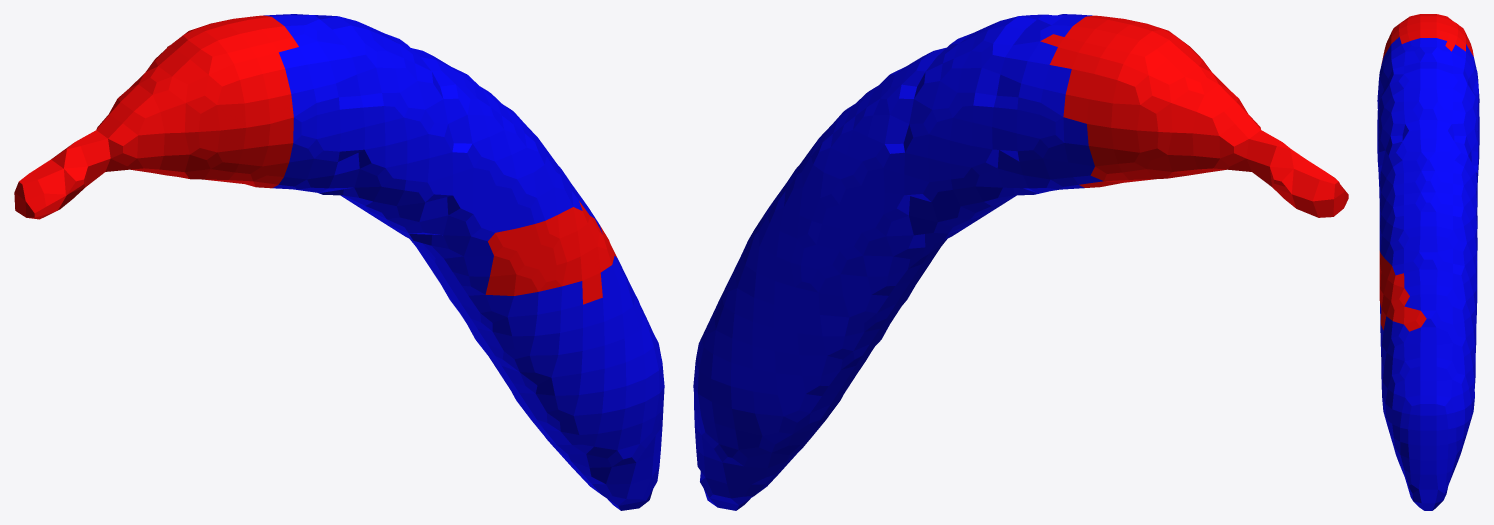
The model's file is affordance_banana.obj.
The picture shows the model from 3 angles, left to right: view 1: azimuth 30°, elevation 25°; view 2: azimuth 150°, elevation 25°; view 3: azimuth 270°, elevation 25°; orthographic projection. The views are drawn at different scales.
Visible parts, largest first — view 1: decomposed; view 2: decomposed; view 3: decomposed.
Part boxes in pixels (bbox=[...]): decomposed: bbox=[14, 14, 664, 510]; decomposed: bbox=[693, 14, 1348, 510]; decomposed: bbox=[1377, 14, 1479, 510].
Size of the model in its own units: 1.5 by 1.29 by 0.3312.
